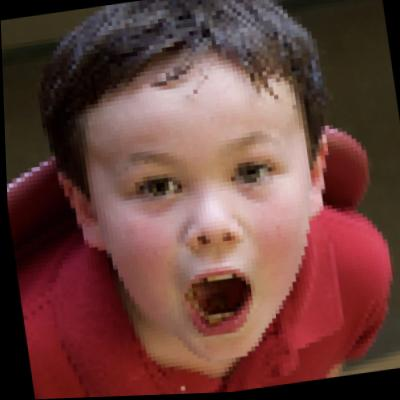surprise: (70, 40, 338, 374)
